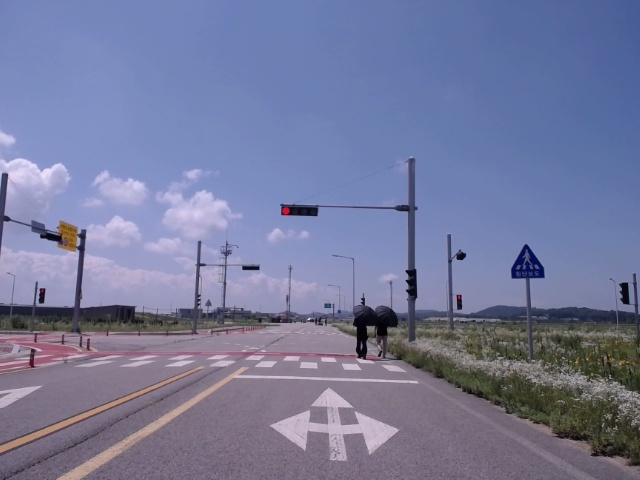red_4: (281, 206, 318, 216)
